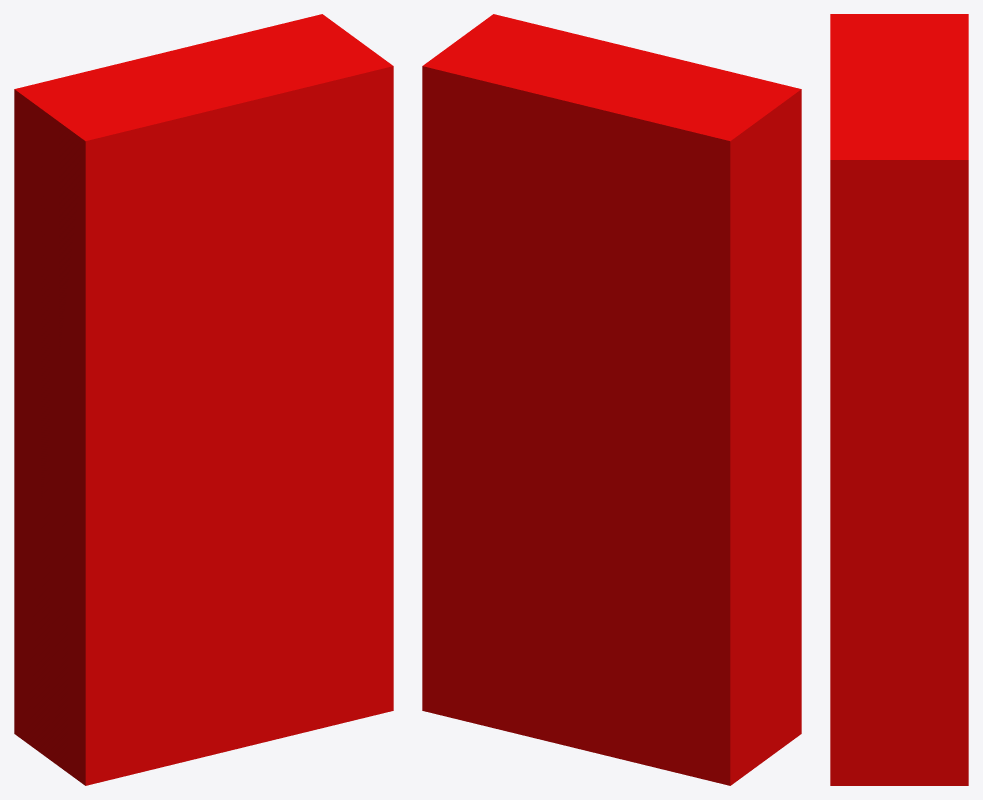
3 renders of one model, left to right at view 1: azimuth 30°, elevation 25°; view 2: azimuth 150°, elevation 25°; view 3: azimuth 270°, elevation 25°, orthographic. The views are drawn at different scales.
Parts seen in each view (by area): view 1: box; view 2: box; view 3: box.
Part boxes in pixels (x1,y1,x2,y2): box: [14, 14, 393, 785]; box: [422, 14, 801, 785]; box: [830, 14, 968, 785].
Size of the model in its own units: 10 by 20 by 4.
